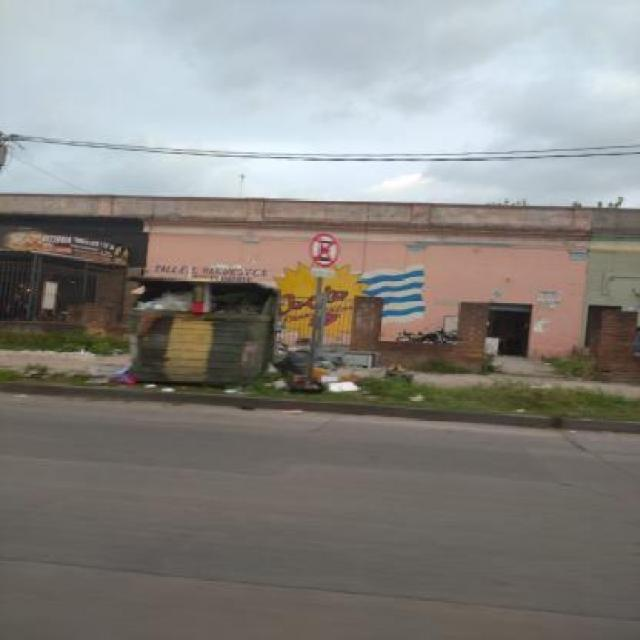garbage: (92, 343, 443, 416), (105, 286, 298, 328)
